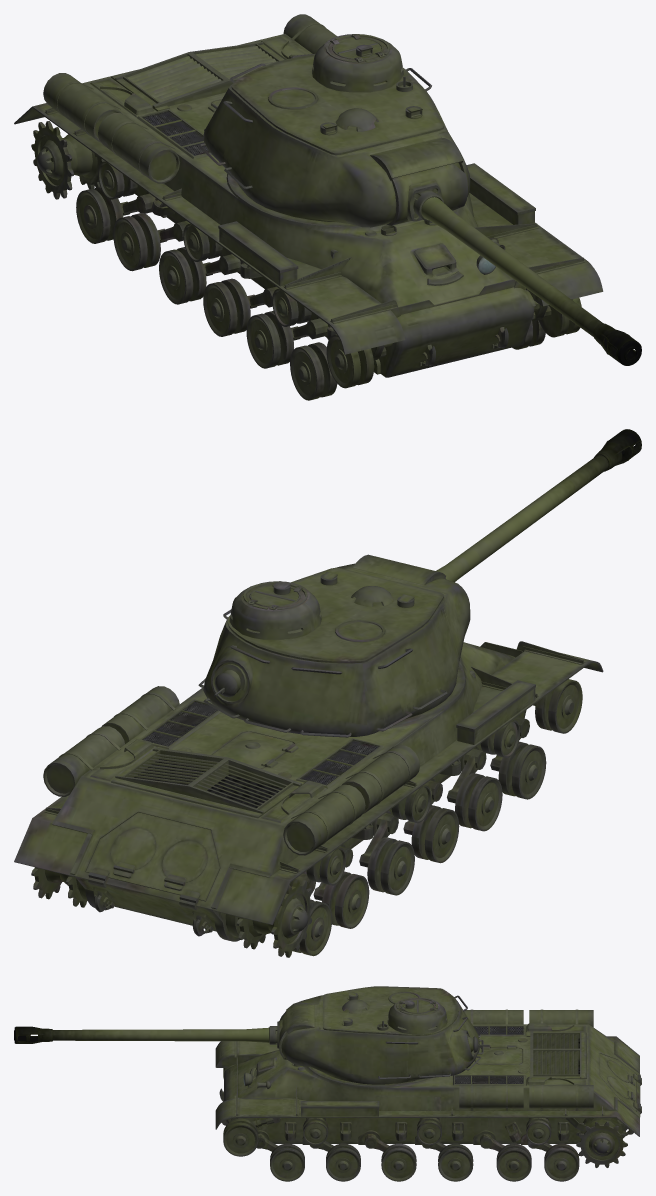
3 renders of one model, top to bottom at view 1: azimuth 30°, elevation 25°; view 2: azimuth 150°, elevation 25°; view 3: azimuth 270°, elevation 25°, orthographic. The views are drawn at different scales.
Visible parts, largest first — view 1: Wanne, turret, cannon, radL0, radL2, radL4, radL3, radL5, radL6, radL1, radL7, rollL1 (+3 smaller); view 2: Wanne, turret, cannon, radL0, radL3, radL5, radL4, radL6, radL2, radL7, radL1, radR0 (+3 smaller); view 3: Wanne, turret, cannon, radR0, radR7, radR4, radR1, radR2, radR3, radR6, radR5, rollR1 (+2 smaller).
Part boxes in pixels (x1,y1,x2,y2): Wanne: (14, 14, 603, 377); turret: (198, 34, 470, 227); cannon: (410, 185, 641, 365); radL0: (31, 121, 104, 199); radL2: (113, 213, 167, 271); radL4: (203, 278, 256, 336); radL3: (159, 247, 212, 304); radL5: (246, 311, 300, 368); radL6: (290, 342, 337, 400); radL1: (76, 186, 129, 243); radL7: (326, 334, 386, 388); rollL1: (98, 161, 137, 199); Wanne: (14, 641, 603, 941); turret: (198, 554, 470, 737); cannon: (436, 429, 641, 582); radL0: (225, 879, 313, 957); radL3: (359, 837, 414, 895); radL5: (447, 773, 502, 831); radL4: (403, 805, 459, 863); radL6: (490, 741, 546, 799); radL2: (313, 871, 369, 928); radL7: (535, 679, 582, 733); radL1: (292, 899, 331, 956); radR0: (31, 867, 87, 907); Wanne: (215, 1009, 641, 1151); turret: (277, 986, 489, 1084); cannon: (14, 1026, 277, 1044); radR0: (576, 1118, 627, 1167); radR7: (223, 1118, 258, 1156); radR4: (381, 1143, 416, 1181); radR1: (544, 1143, 579, 1181); radR2: (496, 1143, 531, 1181); radR3: (438, 1143, 473, 1181); radR6: (270, 1143, 304, 1181); radR5: (326, 1143, 360, 1181); rollR1: (526, 1118, 551, 1145).
Size of the model in its own units: 3.17 by 2.71 by 9.86.
1 material, 1 textured.
